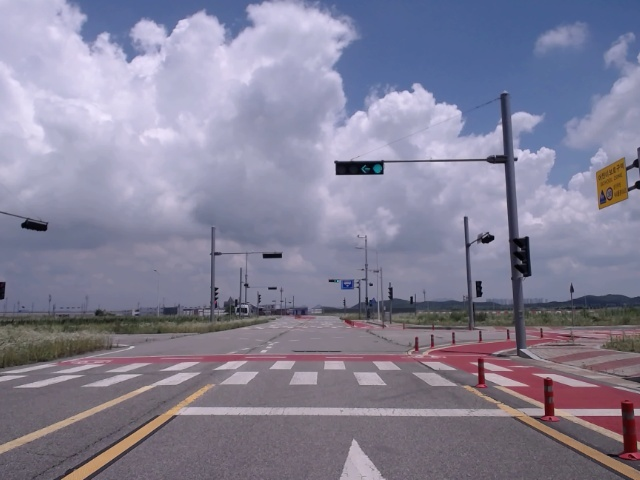all_green_4: (334, 159, 380, 177)
